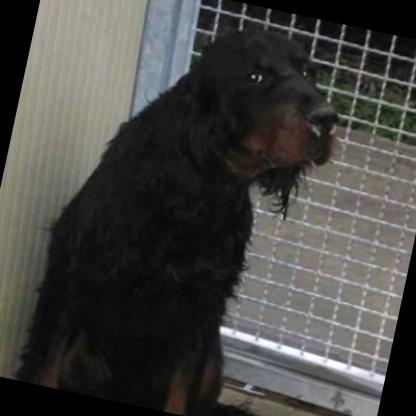Gordon_setter: (8, 0, 416, 416)
